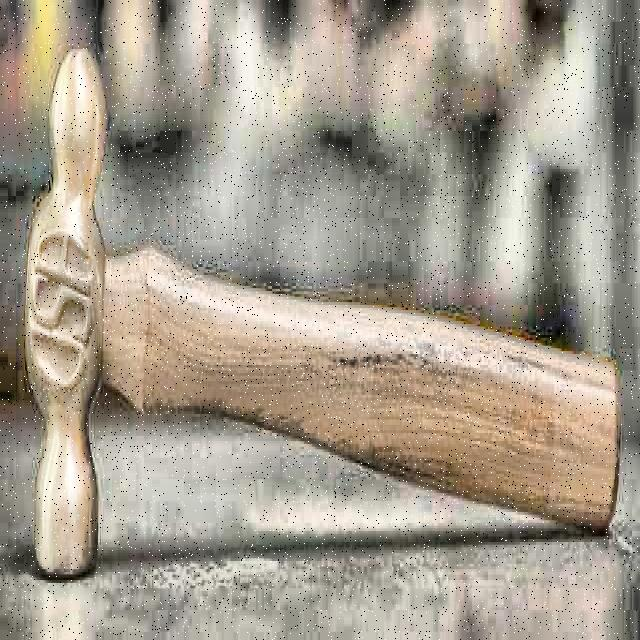hammer: (25, 42, 615, 585)
